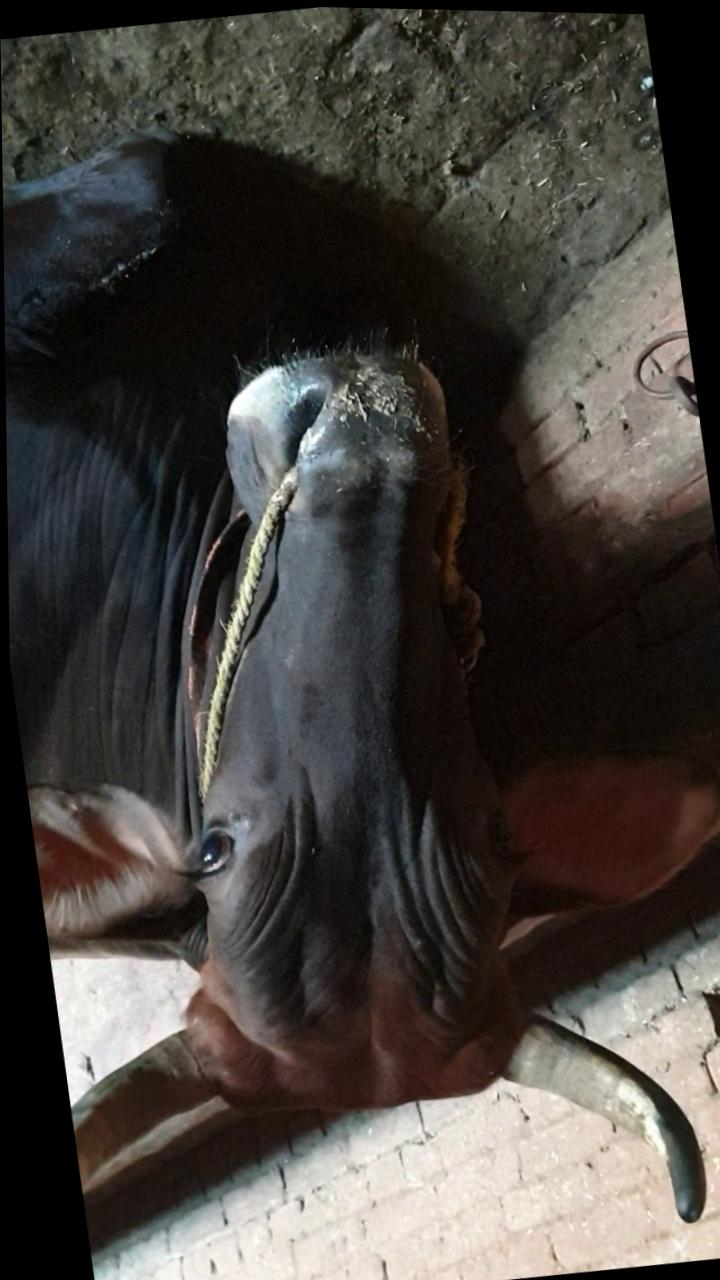cows: (122, 308, 585, 1146)
